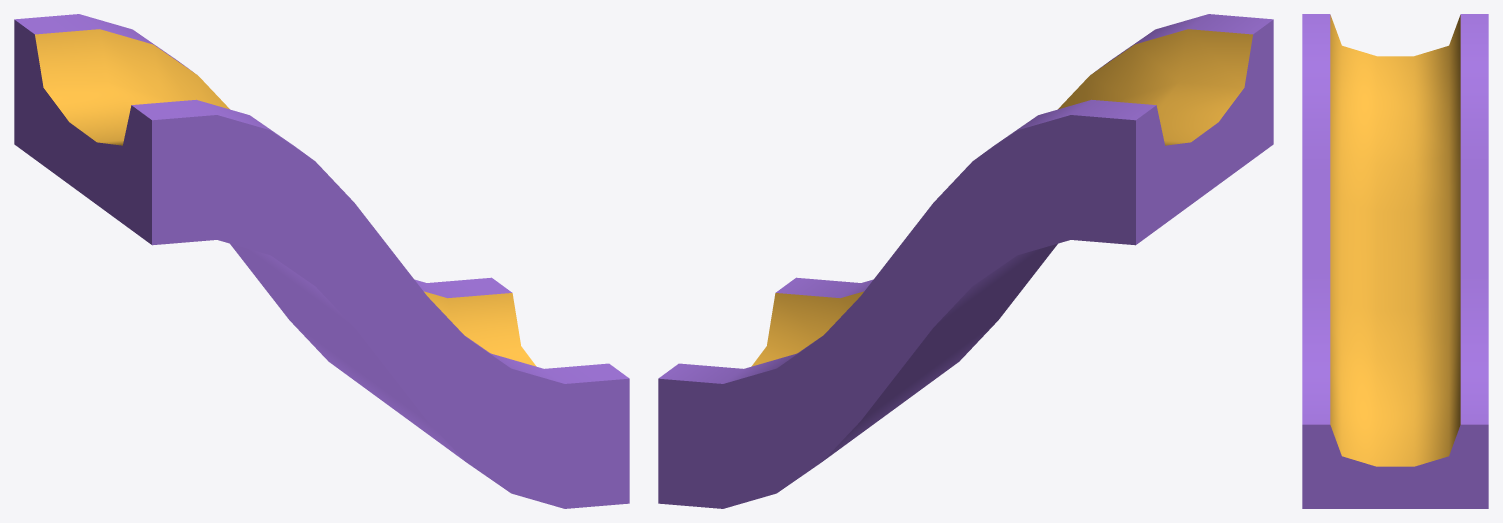
File: ramp-long-d-col.glb
3 renders of one model, left to right at view 1: azimuth 30°, elevation 25°; view 2: azimuth 150°, elevation 25°; view 3: azimuth 270°, elevation 25°, orthographic. The views are drawn at different scales.
Parts seen in each view (by area): view 1: ramp-long-d-col; view 2: ramp-long-d-col; view 3: ramp-long-d-col.
Boxes of the visible parts, x1=… form: ramp-long-d-col: x1=14, y1=14, x2=629, y2=508; ramp-long-d-col: x1=658, y1=14, x2=1273, y2=508; ramp-long-d-col: x1=1302, y1=14, x2=1488, y2=508.
Bounding box in the file's own units: 2 × 2 × 1.
Materials: 1 (1 with a texture image).
